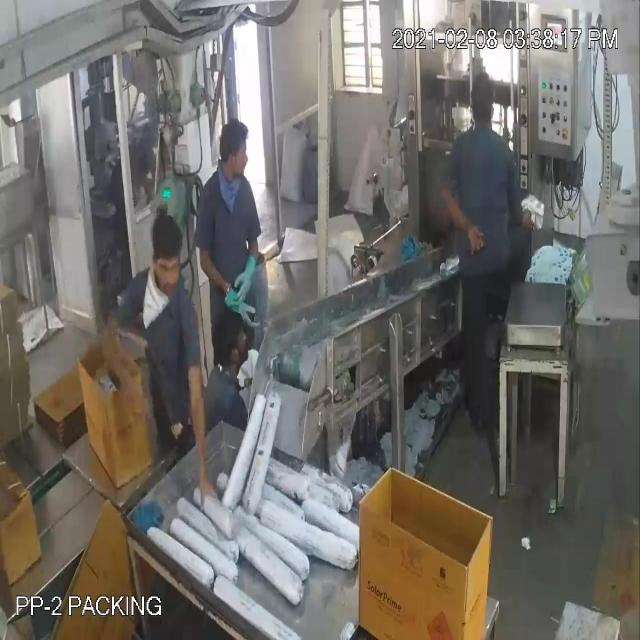No_Gloves: (35, 50, 248, 420)
